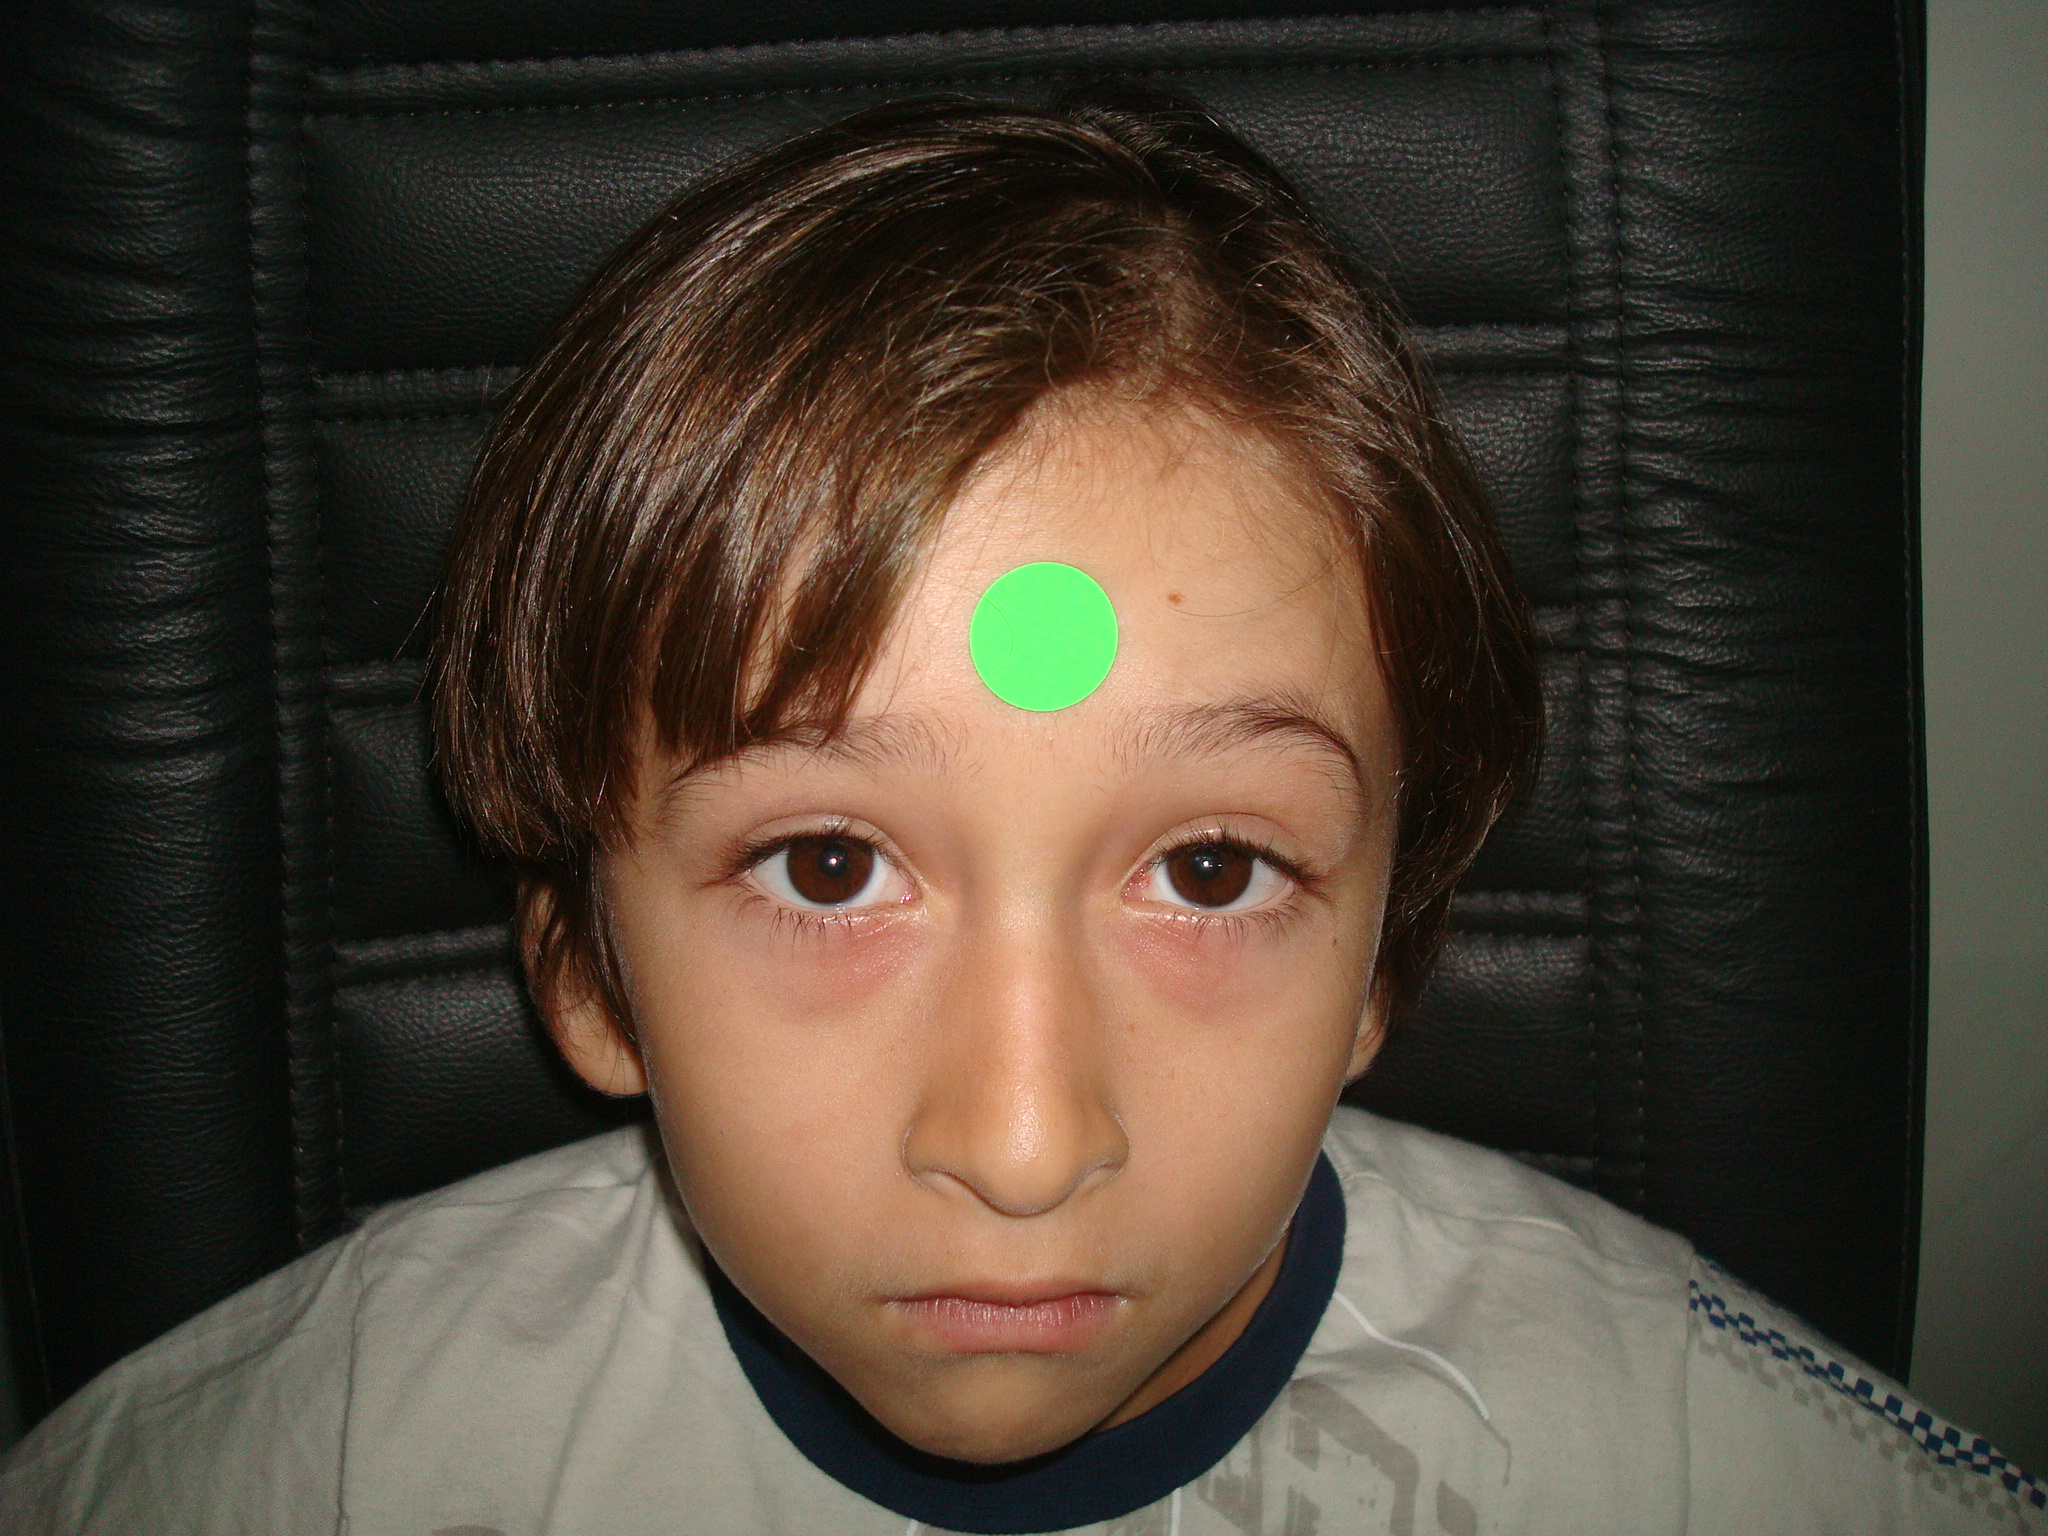flash: (829, 855, 839, 866), (1200, 858, 1211, 868)
limbo: (1161, 826, 1253, 907), (785, 824, 876, 904)
